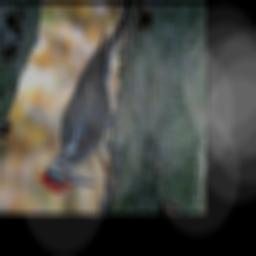Woodpecker: (38, 5, 128, 193)
